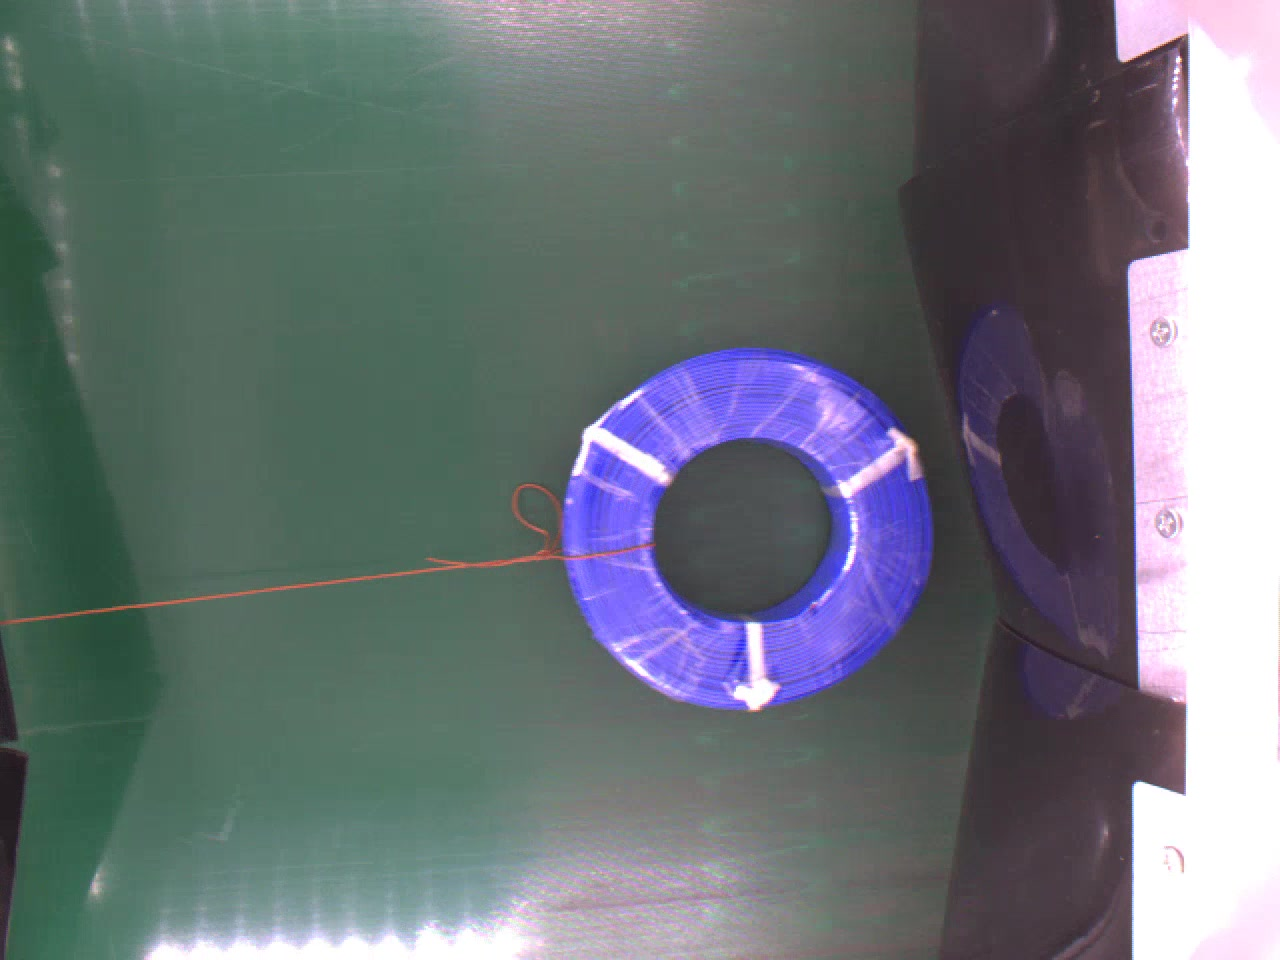blue: (559, 342, 934, 707)
